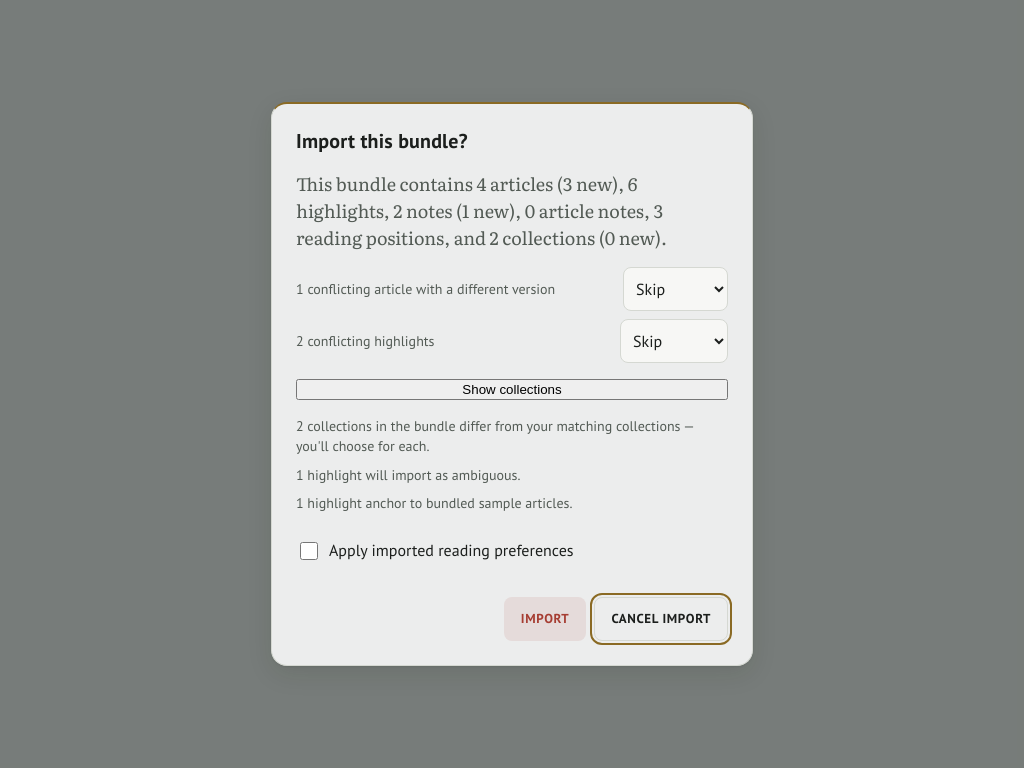
Scenario: ImportPreviewDialog — per-collection conflict choice (issue #249) › renders a collapsed disclosure; expanding shows EVERY conflicted collection with both names and counts
Click the button "Show collections" at (512, 389), box [296,379,728,400]
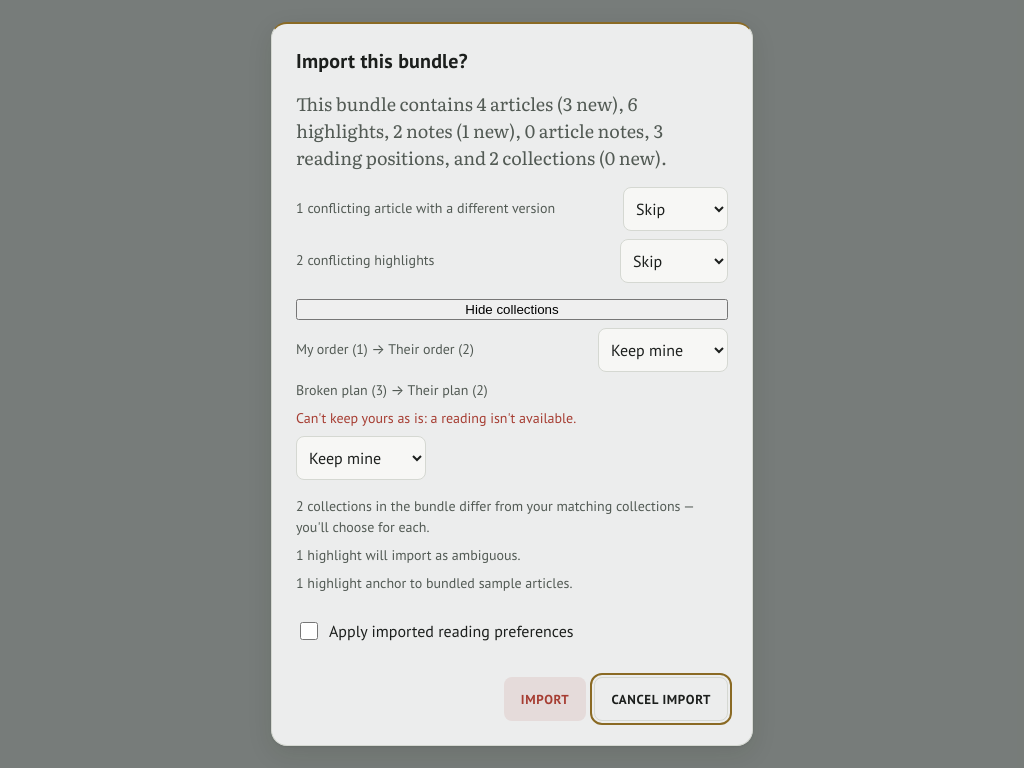
Expected: the dropdown named "Import choice for My order" is shown, [598,328,728,372]
Expected: the text "My order (1)" is shown, [296,340,368,358]
Expected: the text "Their order (2)" is shown, [388,340,474,358]
